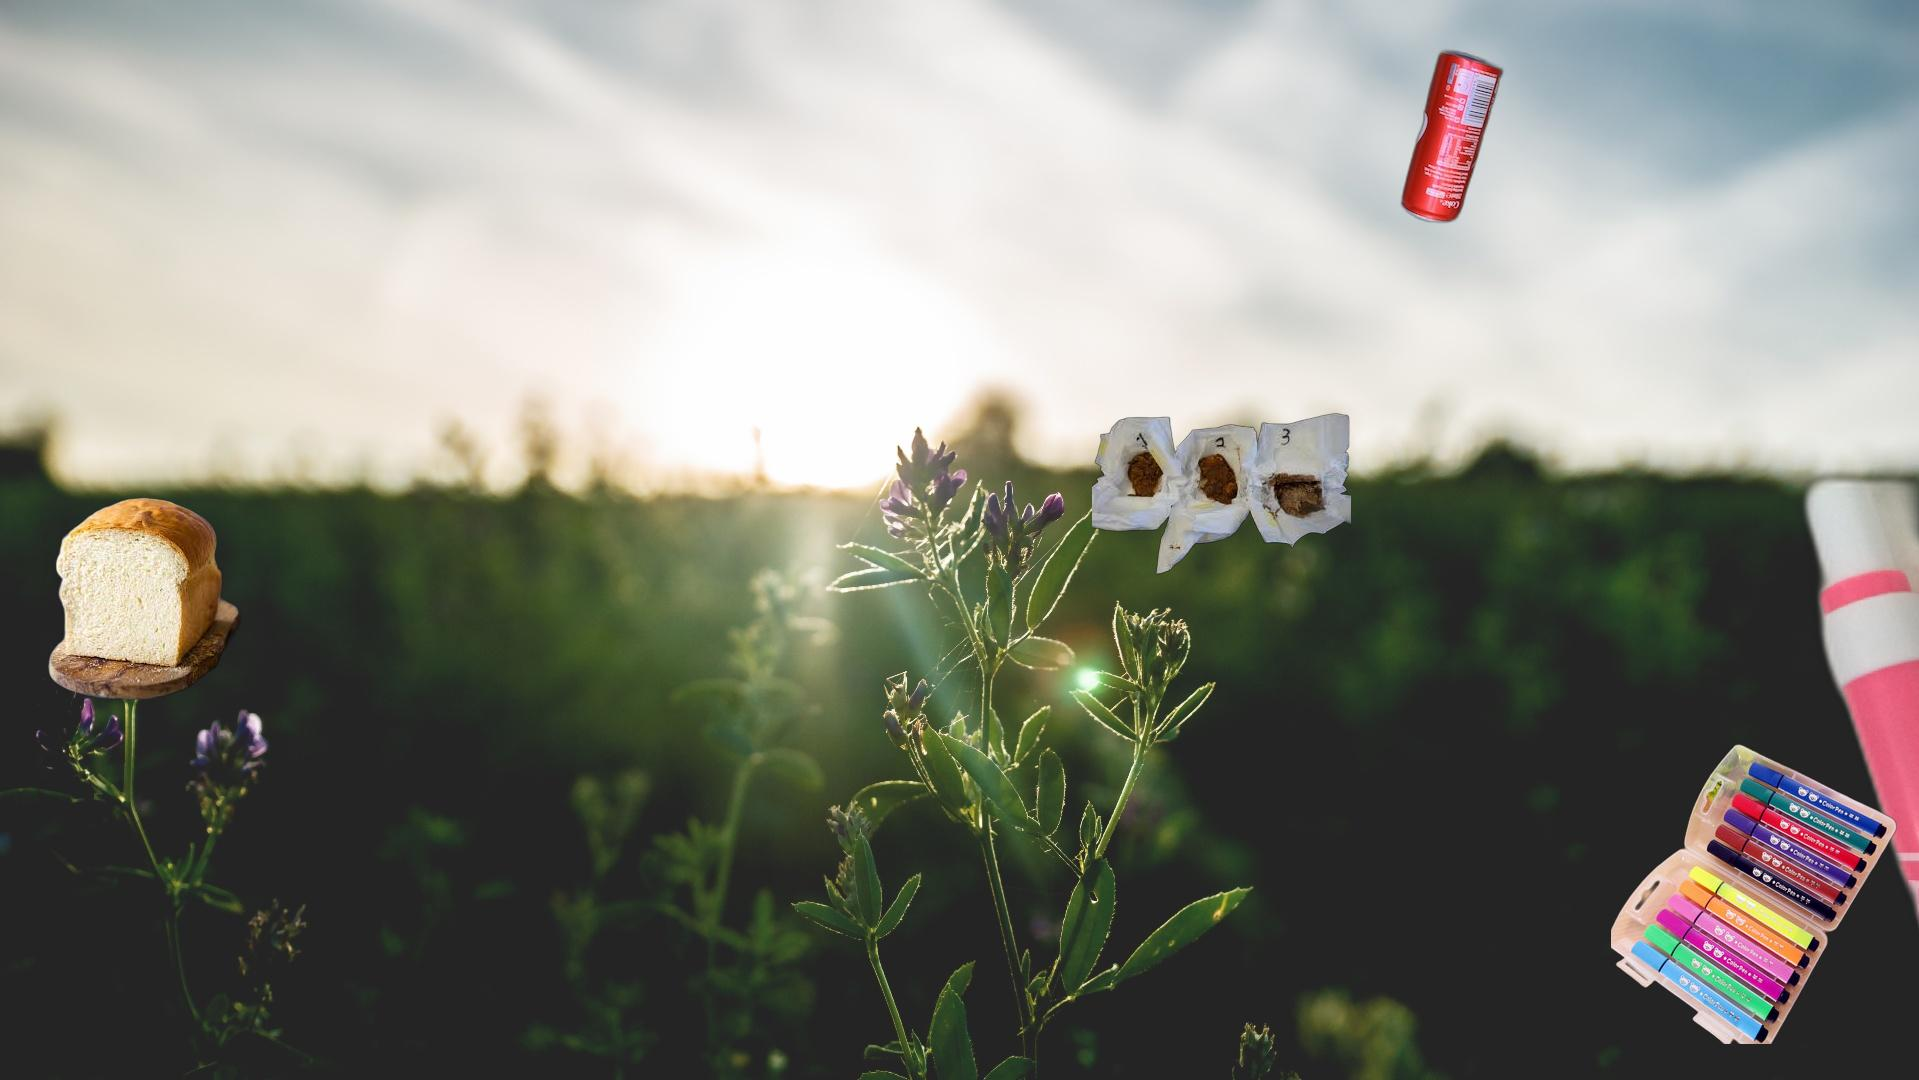biological: (45, 495, 245, 703)
metal-cans: (1396, 44, 1506, 228)
penholder: (1611, 740, 1901, 1044), (1791, 396, 1919, 1080)
trash: (1093, 410, 1351, 578)
